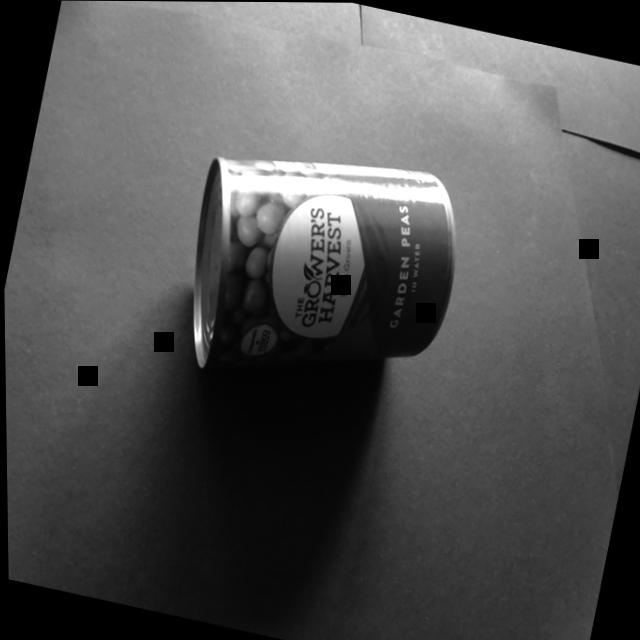Peas: (137, 112, 489, 435)
